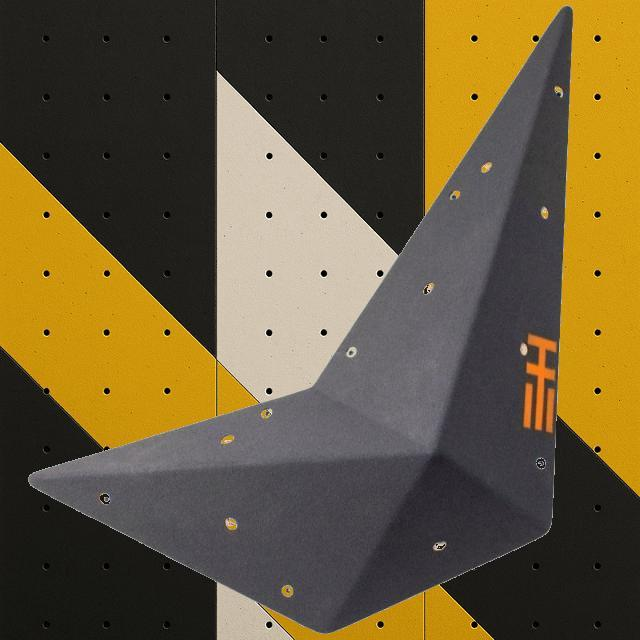Volume: (27, 5, 573, 633)
